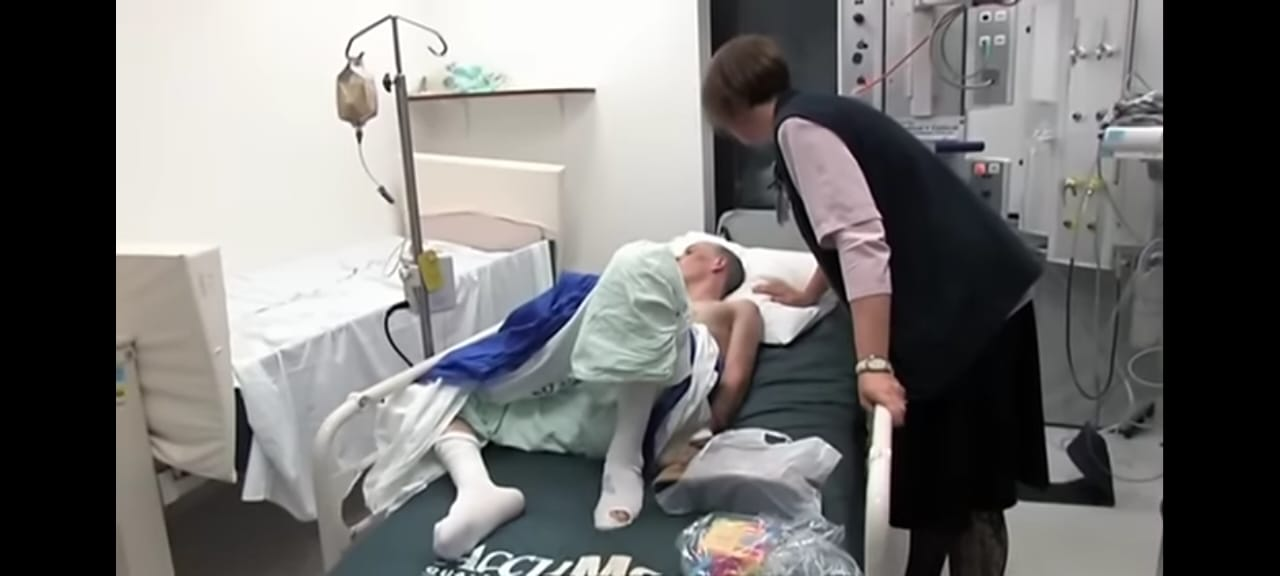doctor: (700, 38, 1032, 570)
patient: (398, 234, 764, 549)
